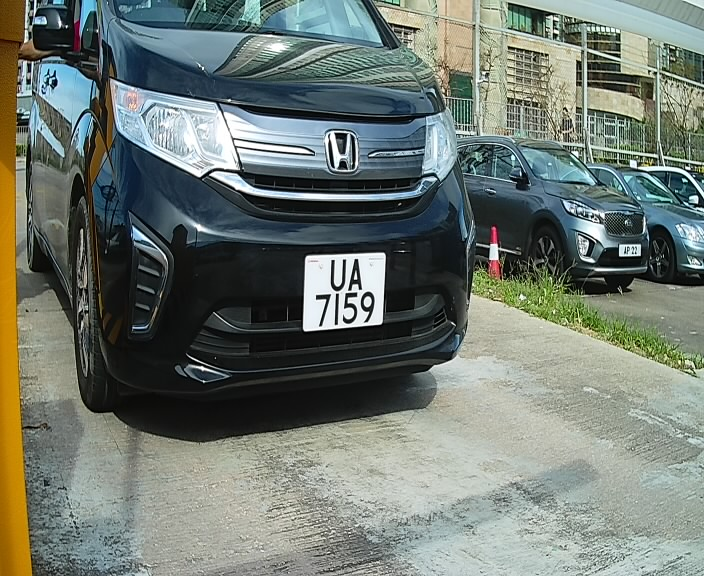License Plate: (300, 245, 392, 341)
